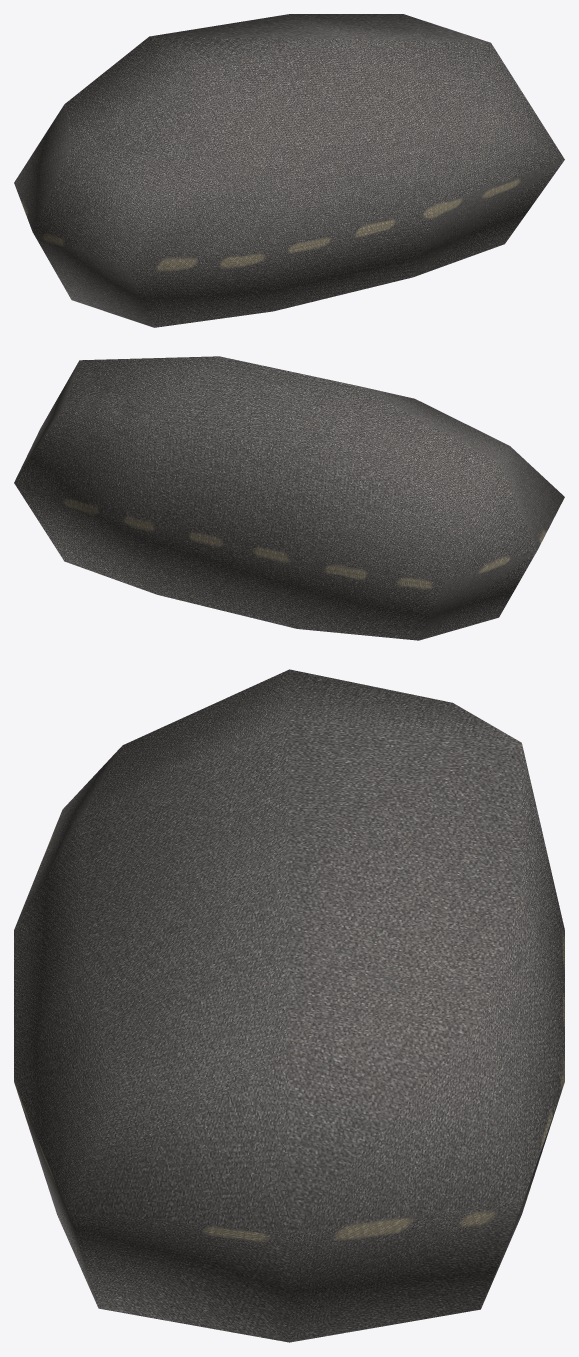
File: pillow.fbx
The picture shows the model from 3 angles, top to bottom: view 1: azimuth 30°, elevation 25°; view 2: azimuth 150°, elevation 25°; view 3: azimuth 270°, elevation 25°; orthographic projection. The views are drawn at different scales.
Visible parts, largest first — view 1: pillow; view 2: pillow; view 3: pillow.
Part boxes in pixels (x1=…): pillow: x1=14, y1=14, x2=564, y2=327; pillow: x1=14, y1=356, x2=564, y2=640; pillow: x1=14, y1=669, x2=564, y2=1342.
Bounding box in the file's own units: 60.33 × 22.87 × 30.93.
